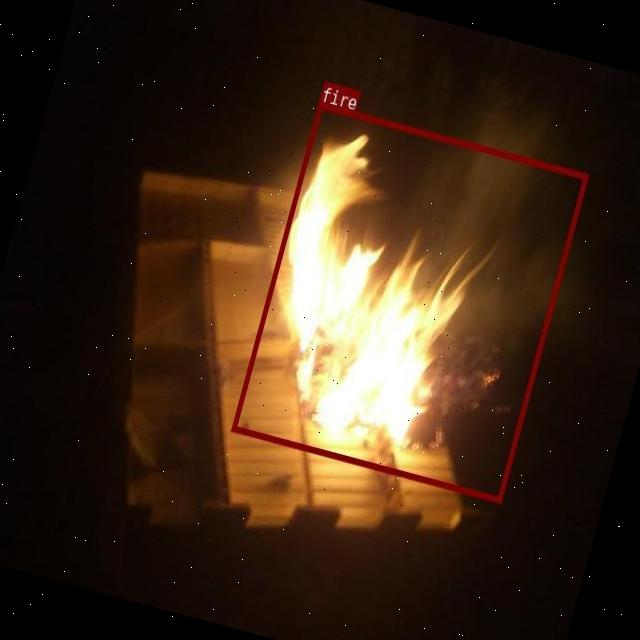fire: (231, 100, 588, 501)
